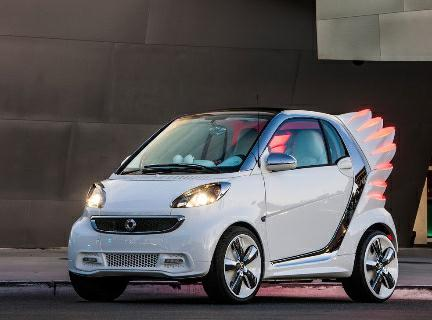smart-forjeremy: (59, 112, 396, 299)
